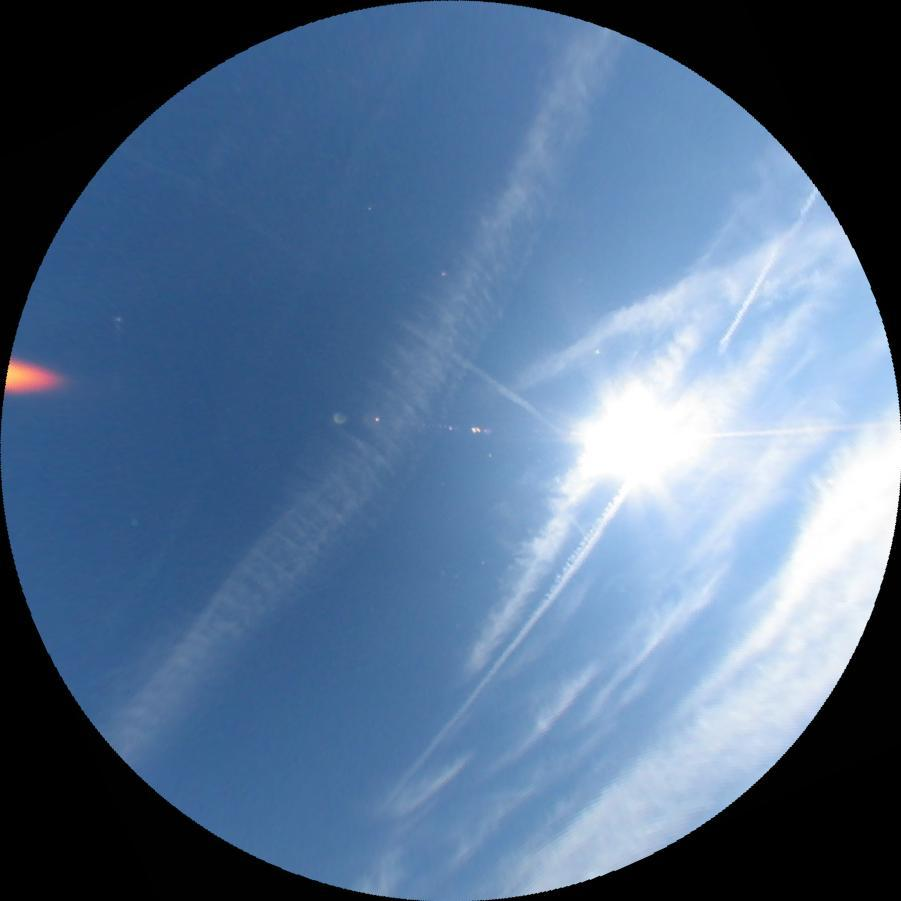contrail old: (378, 186, 836, 823), (400, 316, 566, 435)
contrail veryold: (135, 18, 446, 584), (439, 277, 732, 677), (495, 207, 855, 411)
parasite: (691, 419, 900, 440)
sun: (581, 398, 692, 484)
